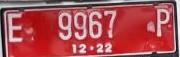clone-license-plate: (1, 2, 177, 56)
